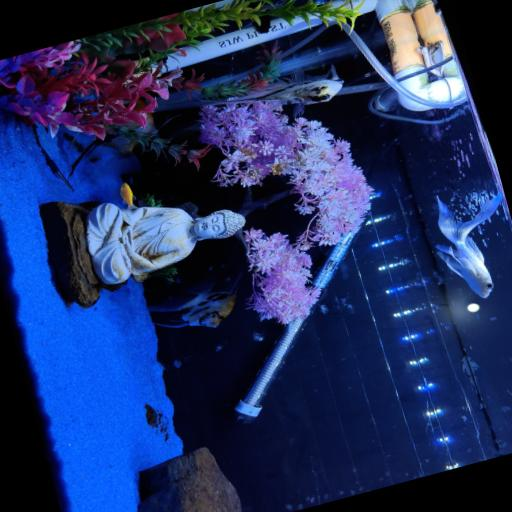Fish: (435, 193, 500, 297), (210, 65, 342, 116), (147, 283, 234, 327), (100, 135, 139, 173), (119, 182, 134, 205)
